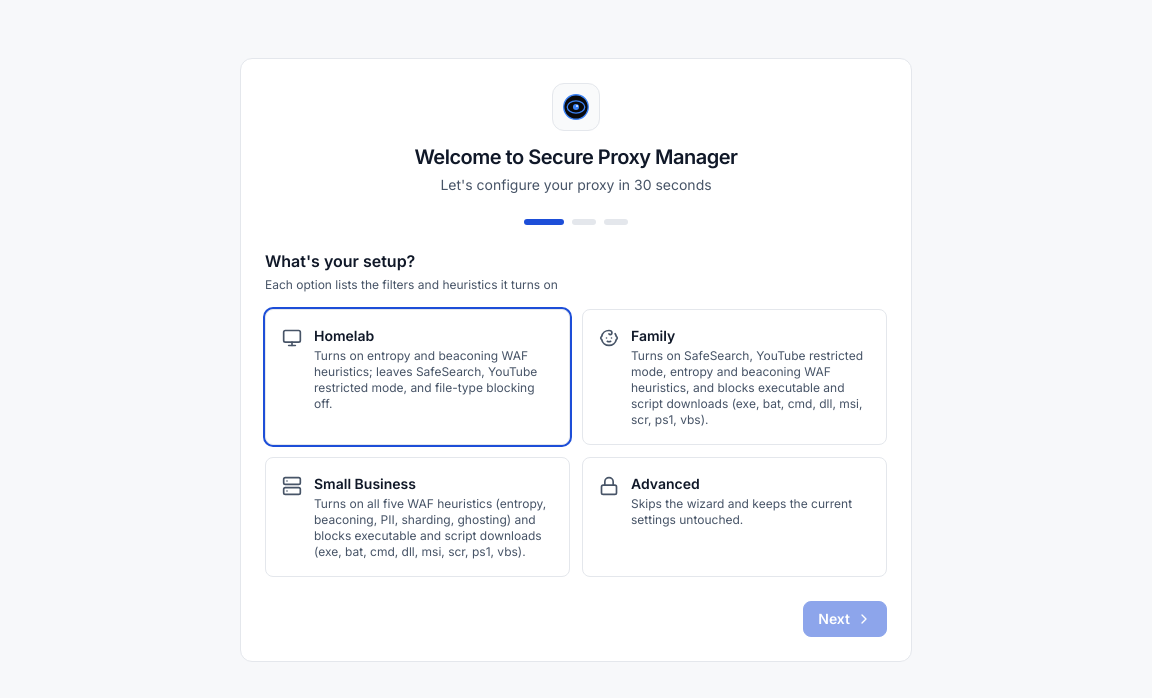
Scenario: SetupWizard › invalidates the settings query cache after saving and reports failed reload outcomes truthfully
Click the text "Homelab".
click(344, 336)  # box [314,327,374,344]
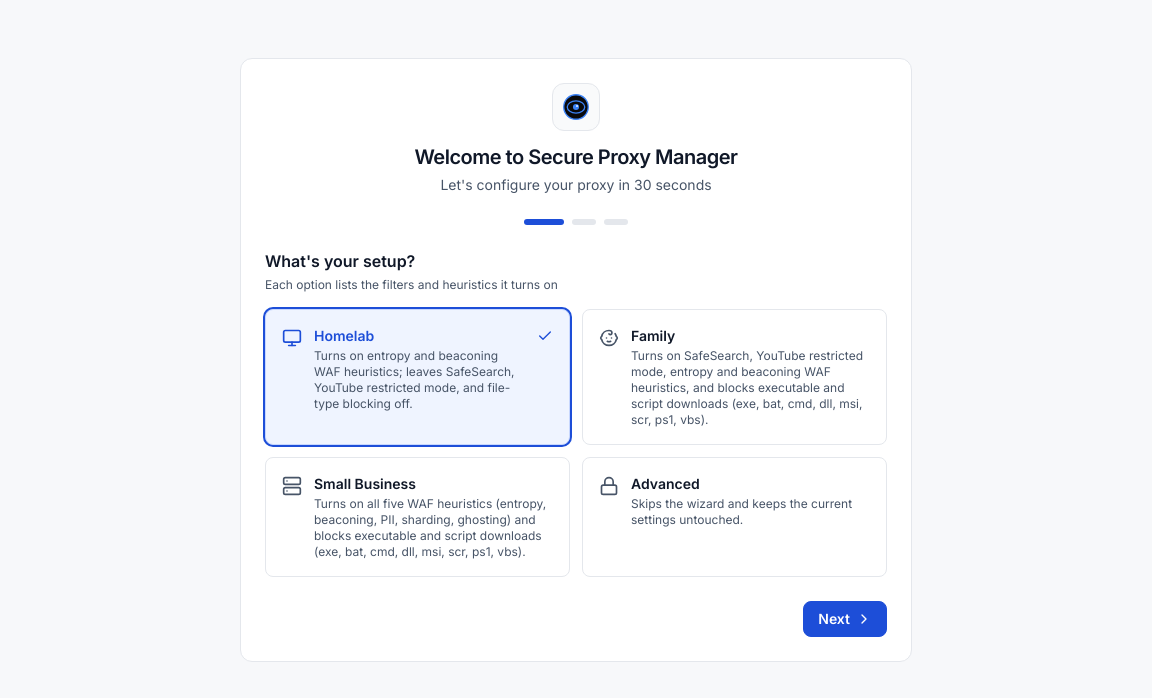
Click the button "Next".
click(845, 619)  # box [803,601,887,637]
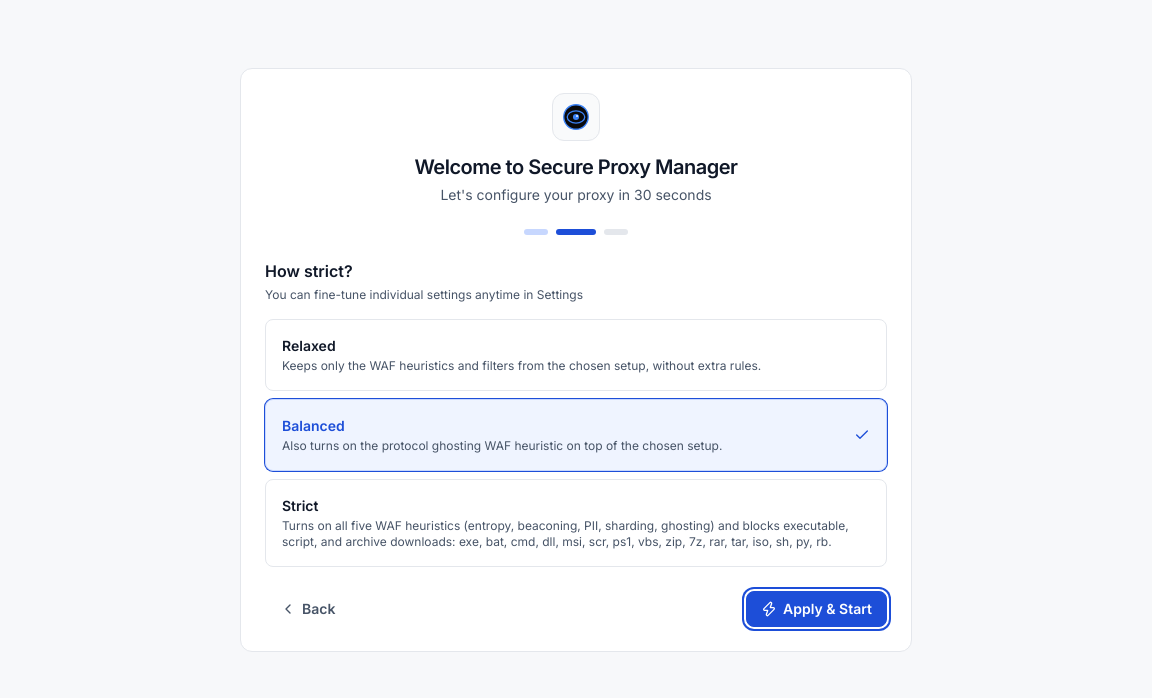
Click the button "Apply & Start".
click(817, 609)  # box [746,591,887,627]
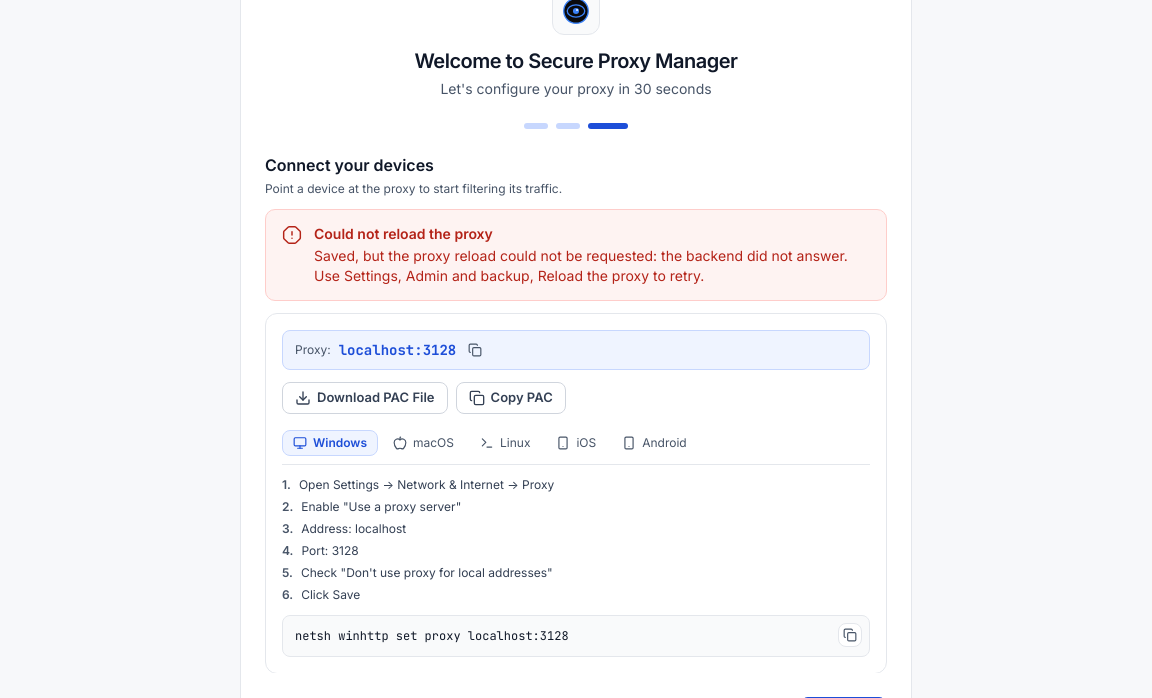
Check: the text "Could not reload the proxy" is shown, box [314,225,493,242]
Check: the text "Settings, Admin and backup, Reload the proxy" is shown, box [314,247,848,284]
